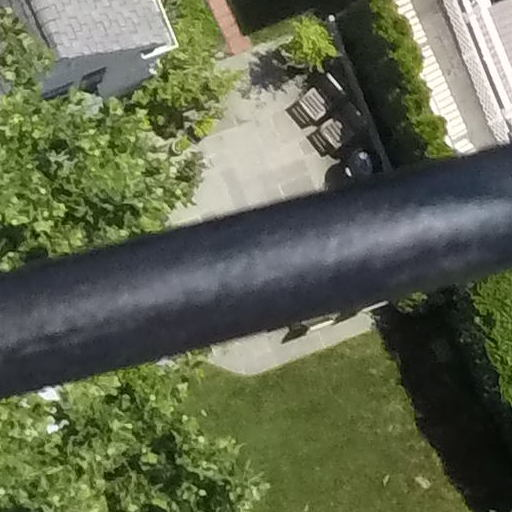flower pot: (276, 34, 316, 76)
